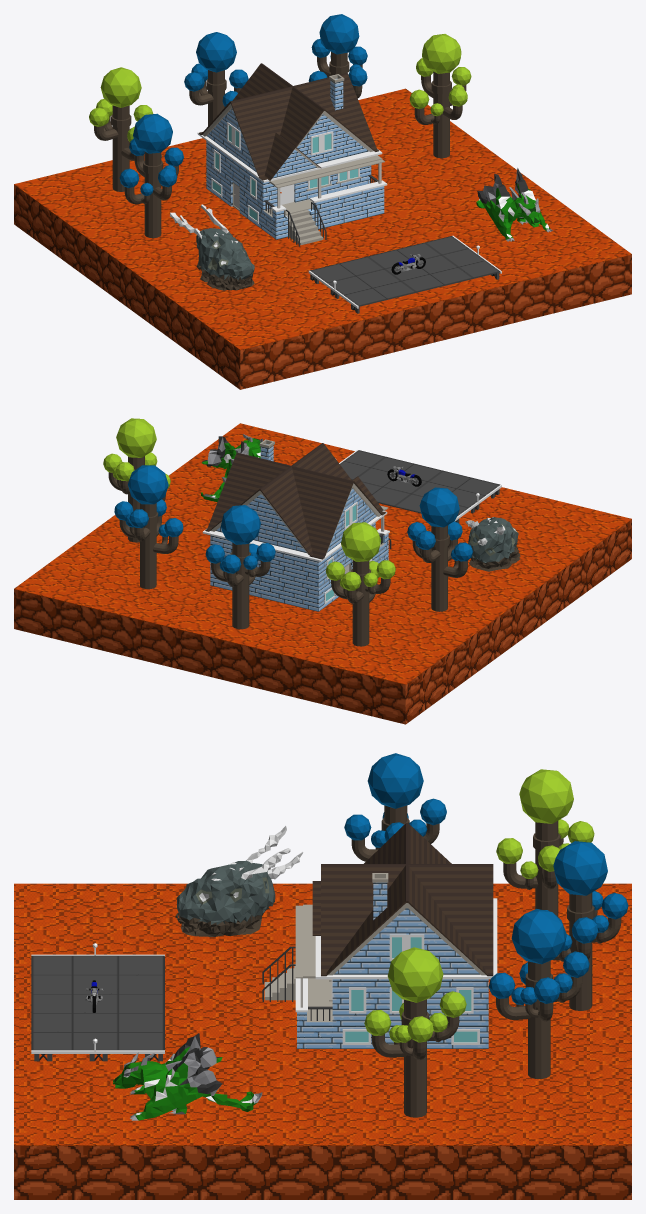
The picture shows the model from 3 angles, top to bottom: view 1: azimuth 30°, elevation 25°; view 2: azimuth 150°, elevation 25°; view 3: azimuth 270°, elevation 25°; orthographic projection. The views are drawn at different scales.
Parts seen in each view (by area): view 1: Cube.001, Cube.547, OBJRANDOM_METEORITE, ANIMAL_DRAGON; view 2: Cube.001, Cube.547, OBJRANDOM_METEORITE, ANIMAL_DRAGON; view 3: Cube.001, Cube.547, OBJRANDOM_METEORITE, ANIMAL_DRAGON.
Part boxes in pixels (x1=…): Cube.001: x1=14, y1=14, x2=631, y2=389; Cube.547: x1=197, y1=63, x2=387, y2=246; OBJRANDOM_METEORITE: x1=170, y1=204, x2=254, y2=290; ANIMAL_DRAGON: x1=476, y1=168, x2=552, y2=241; Cube.001: x1=14, y1=418, x2=631, y2=724; Cube.547: x1=202, y1=439, x2=391, y2=611; OBJRANDOM_METEORITE: x1=465, y1=517, x2=520, y2=571; ANIMAL_DRAGON: x1=201, y1=434, x2=262, y2=502; Cube.001: x1=14, y1=753, x2=631, y2=1199; Cube.547: x1=262, y1=823, x2=497, y2=1048; OBJRANDOM_METEORITE: x1=175, y1=826, x2=303, y2=936; ANIMAL_DRAGON: x1=113, y1=1033, x2=262, y2=1120.
Bounding box in the file's own units: 4000 × 1614 × 4000.
Materials: 31 (6 with a texture image).
